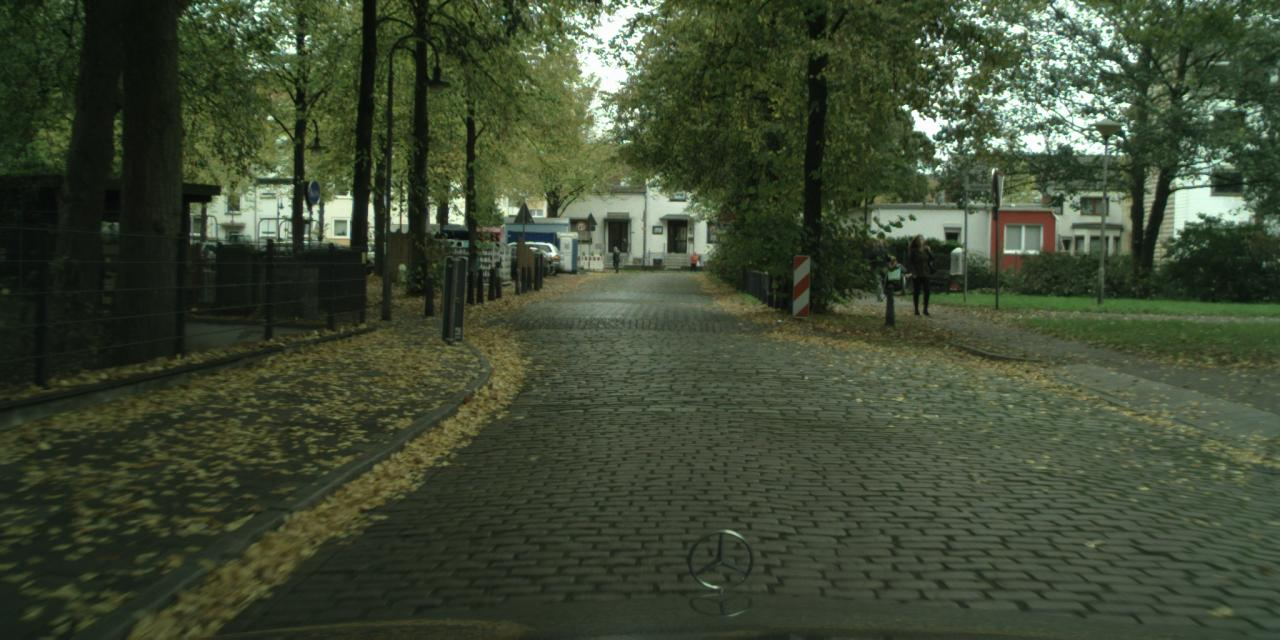ped: (903, 233, 936, 315), (872, 242, 906, 302), (610, 246, 620, 272), (689, 250, 698, 270)
